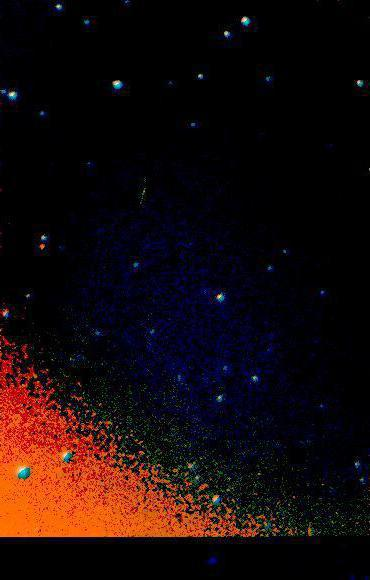star: (26, 233, 56, 263)
